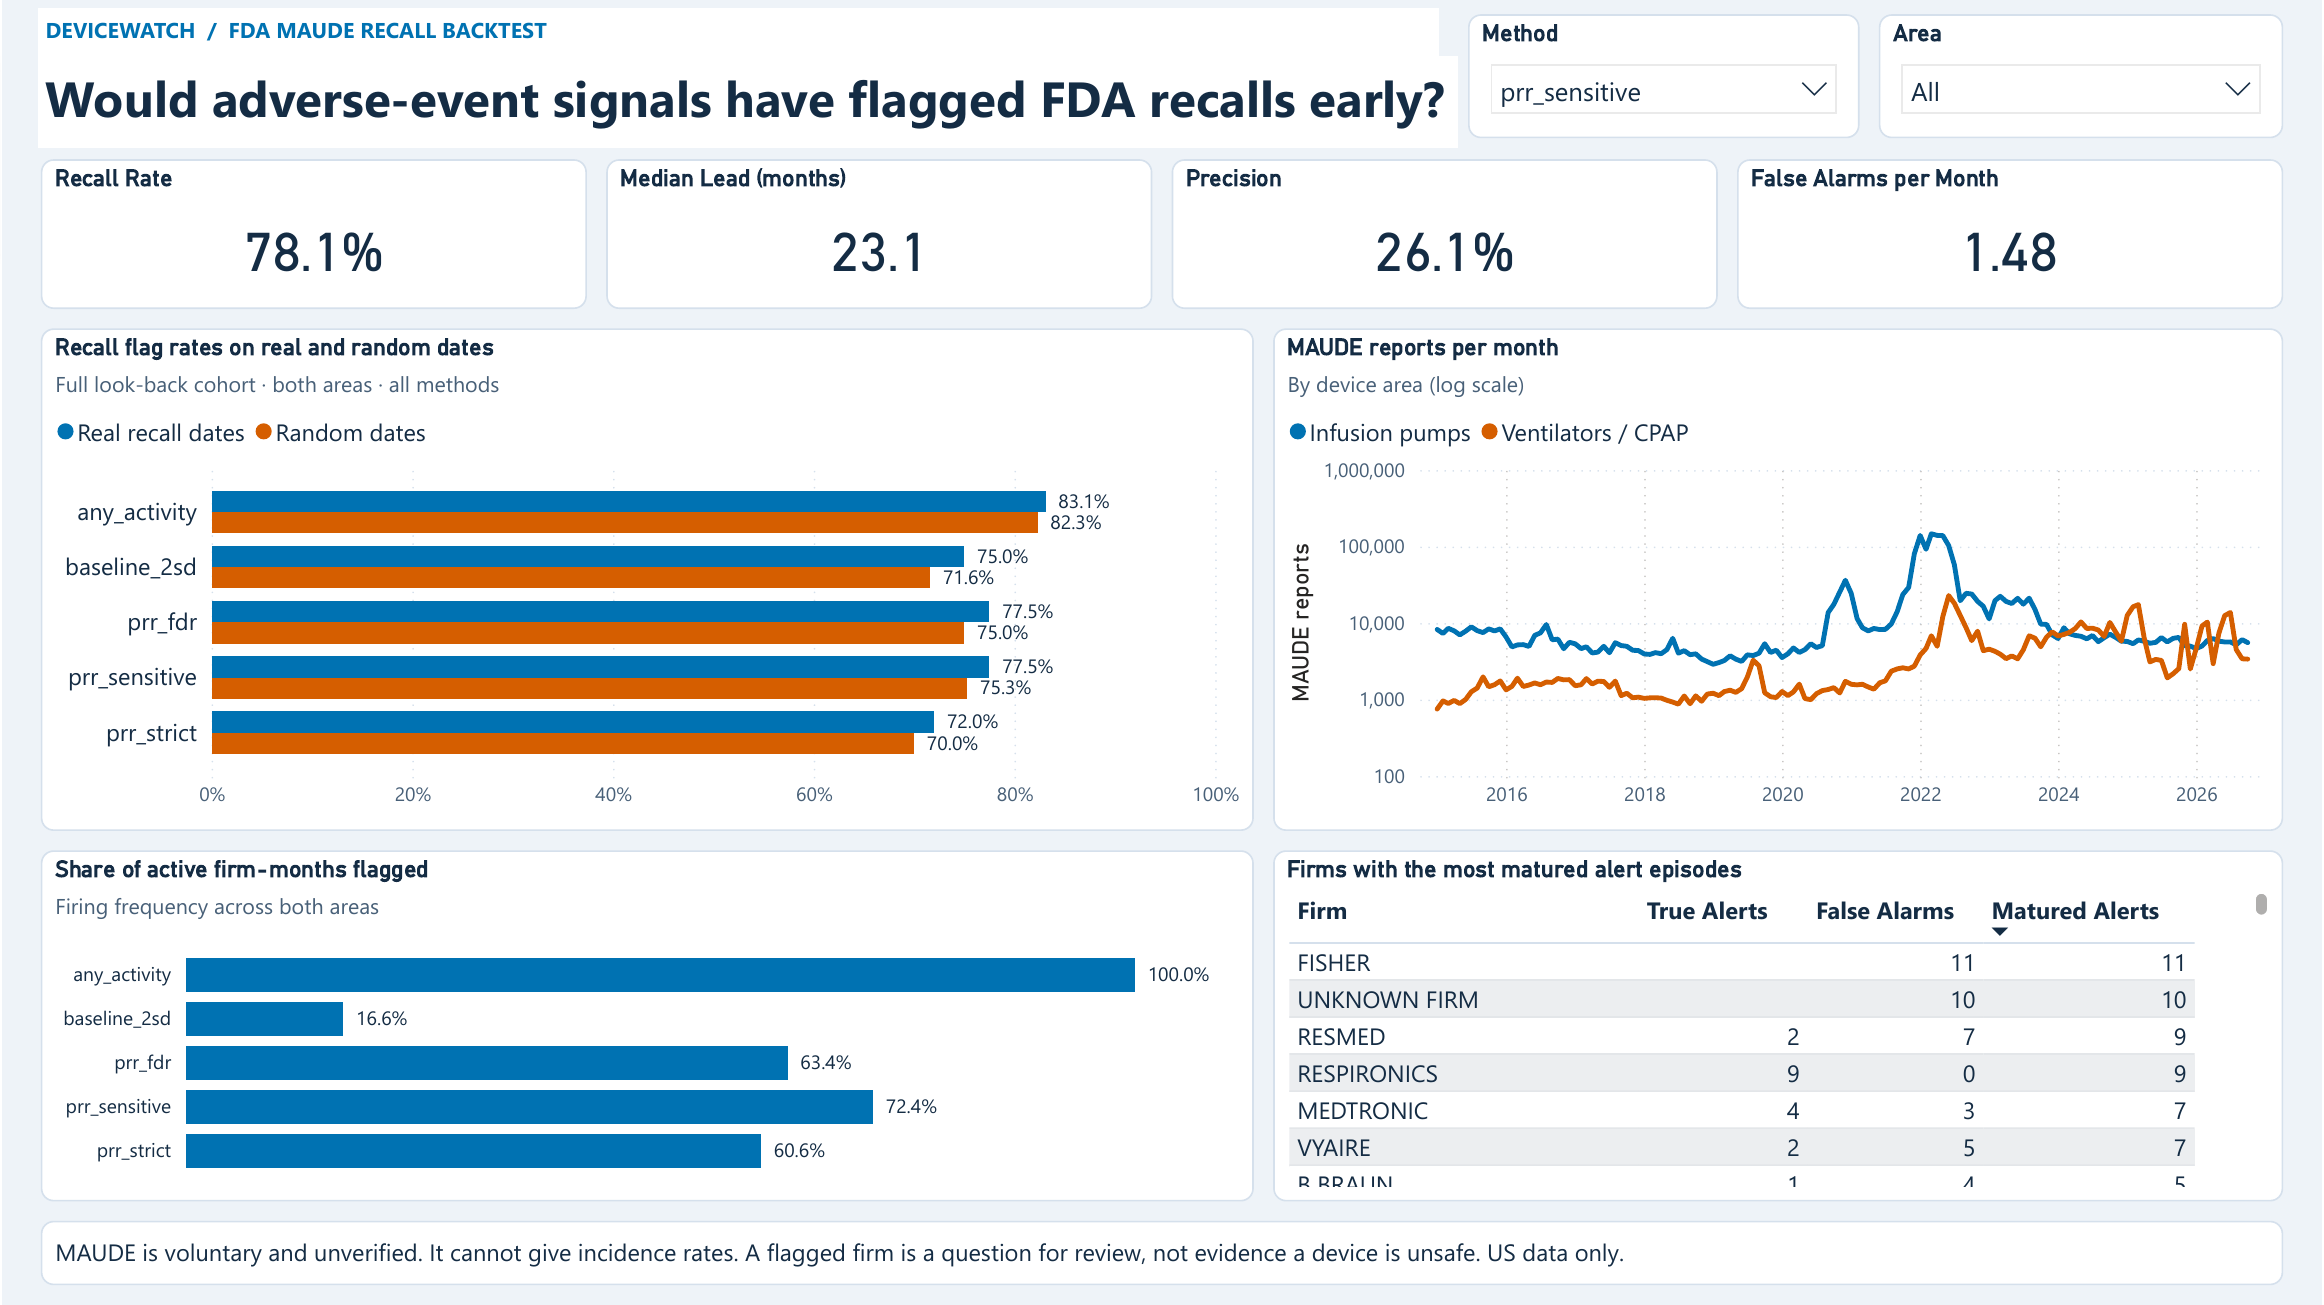

The dashboard page shown, as its layout file describes it:
{"tool":"powerbi","page":{"name":"DeviceWatch","canvas":[1440,810],"ordinal":0},"visuals":[{"type":"textbox","box":[22,5,870,30],"z":1},{"type":"textbox","box":[22,35,882,57],"z":2},{"type":"slicer","title":"Method","fields":{"Values":["dim_method.method"]},"box":[910,9,243,77],"z":3},{"type":"slicer","title":"Area","fields":{"Values":["dim_area.area_label"]},"box":[1165,9,251,77],"z":4},{"type":"card","title":"Recall Rate","fields":{"Values":["_Measures.Recall Rate"]},"box":[24,99,339,93],"z":5},{"type":"card","title":"Median Lead (months)","fields":{"Values":["_Measures.Median Lead (months)"]},"box":[375,99,339,93],"z":6},{"type":"card","title":"Precision","fields":{"Values":["_Measures.Precision"]},"box":[726,99,339,93],"z":7},{"type":"card","title":"False Alarms per Month","fields":{"Values":["_Measures.False Alarms per Month"]},"box":[1077,99,339,93],"z":8},{"type":"clusteredBarChart","title":"Recall flag rates on real and random dates","fields":{"Category":["dim_method.method"],"Y":["_Measures.Real recall dates","_Measures.Random dates"]},"box":[24,204,753,312],"z":9},{"type":"lineChart","title":"MAUDE reports per month","fields":{"Category":["fact_monthly_reports.month"],"Series":["dim_area.area_label"],"Y":["_Measures.MAUDE reports"]},"box":[789,204,627,312],"z":10},{"type":"clusteredBarChart","title":"Share of active firm-months flagged","fields":{"Category":["dim_method.method"],"Y":["_Measures.Share of active firm-months flagged"]},"box":[24,528,753,218],"z":11},{"type":"tableEx","title":"Firms with the most matured alert episodes","fields":{"Values":["fact_alerts.firm","_Measures.True Alerts","_Measures.False Alarms","_Measures.Alerts (matured)"]},"box":[789,528,627,218],"z":12},{"type":"textbox","box":[24,758,1392,40],"z":13}]}

Visuals, with their boxes in screenshot pixels (x1, y1, x2, y2), scaled from the page's 1440x810 canvas onto the 2324x1305 screenshot:
textbox: detection(36, 8, 1440, 56)
textbox: detection(36, 56, 1459, 148)
"Method" slicer: detection(1469, 14, 1861, 139)
"Area" slicer: detection(1880, 14, 2285, 139)
"Recall Rate" card: detection(39, 160, 586, 309)
"Median Lead (months)" card: detection(605, 160, 1152, 309)
"Precision" card: detection(1172, 160, 1719, 309)
"False Alarms per Month" card: detection(1738, 160, 2285, 309)
"Recall flag rates on real and random dates" clusteredBarChart: detection(39, 329, 1254, 831)
"MAUDE reports per month" lineChart: detection(1273, 329, 2285, 831)
"Share of active firm-months flagged" clusteredBarChart: detection(39, 851, 1254, 1202)
"Firms with the most matured alert episodes" tableEx: detection(1273, 851, 2285, 1202)
textbox: detection(39, 1221, 2285, 1286)
